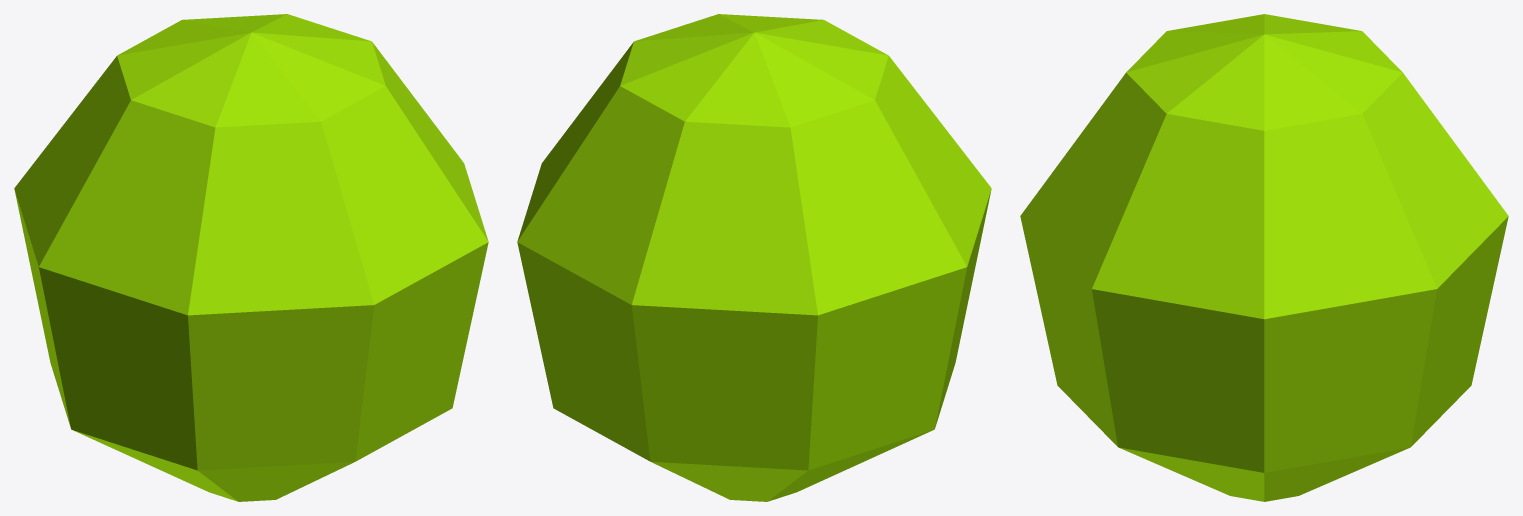
File: beam3.glb
3 views of the same model, side by side, from view 1: azimuth 30°, elevation 25°; view 2: azimuth 150°, elevation 25°; view 3: azimuth 270°, elevation 25° (orthographic).
Parts seen in each view (by area): view 1: Sphere; view 2: Sphere; view 3: Sphere.
Part boxes in pixels (x1,y1,x2,y2): Sphere: (14, 14, 488, 501); Sphere: (517, 14, 991, 501); Sphere: (1020, 14, 1508, 501).
Size of the model in its own units: 1.96 by 2 by 1.96.
